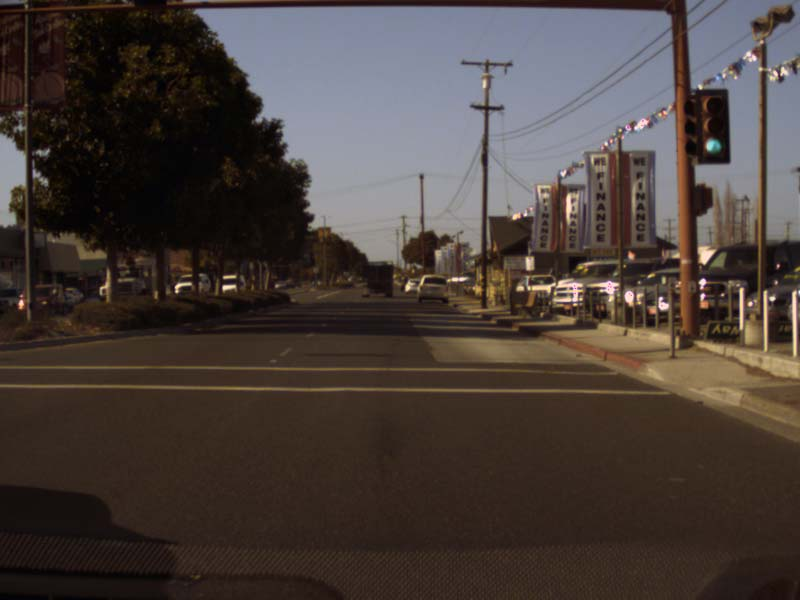Green: (696, 89, 730, 164)
